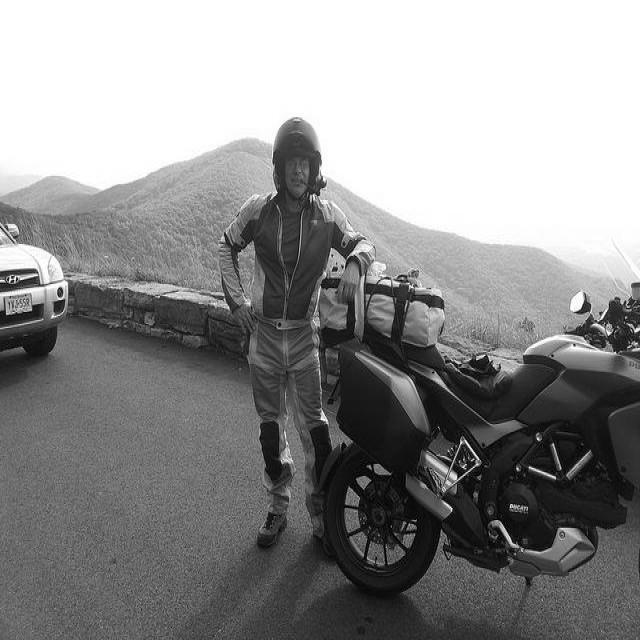vehicle: (320, 297, 640, 599), (0, 219, 70, 353)
